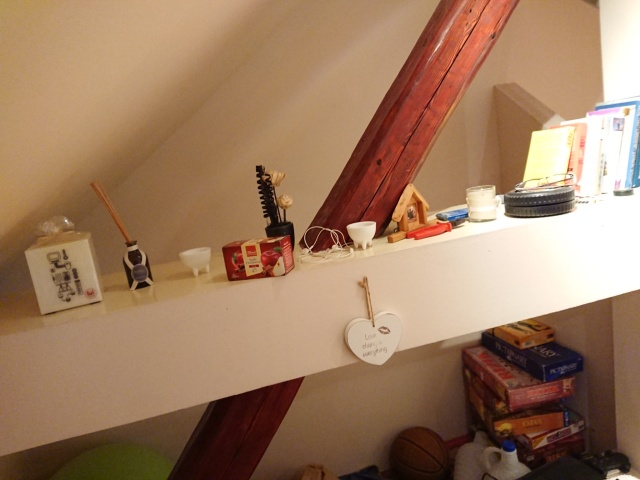Franck Apple Cinnamon Tea 60g: (219, 231, 297, 283)
